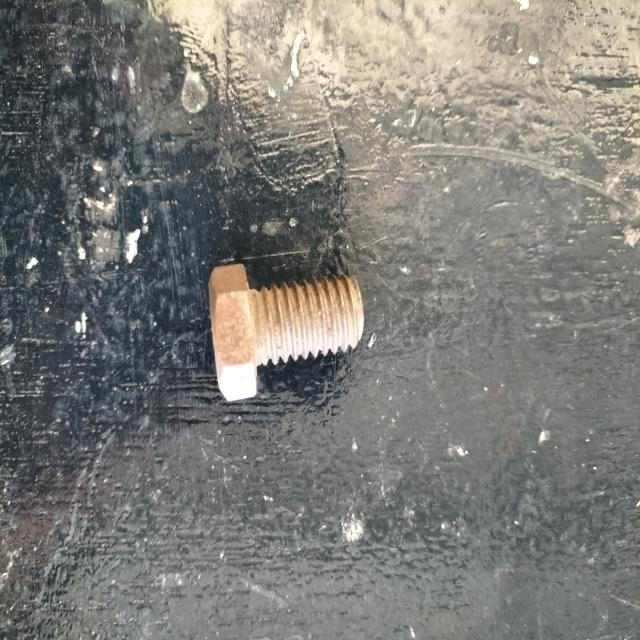bolt: (208, 262, 364, 401)
